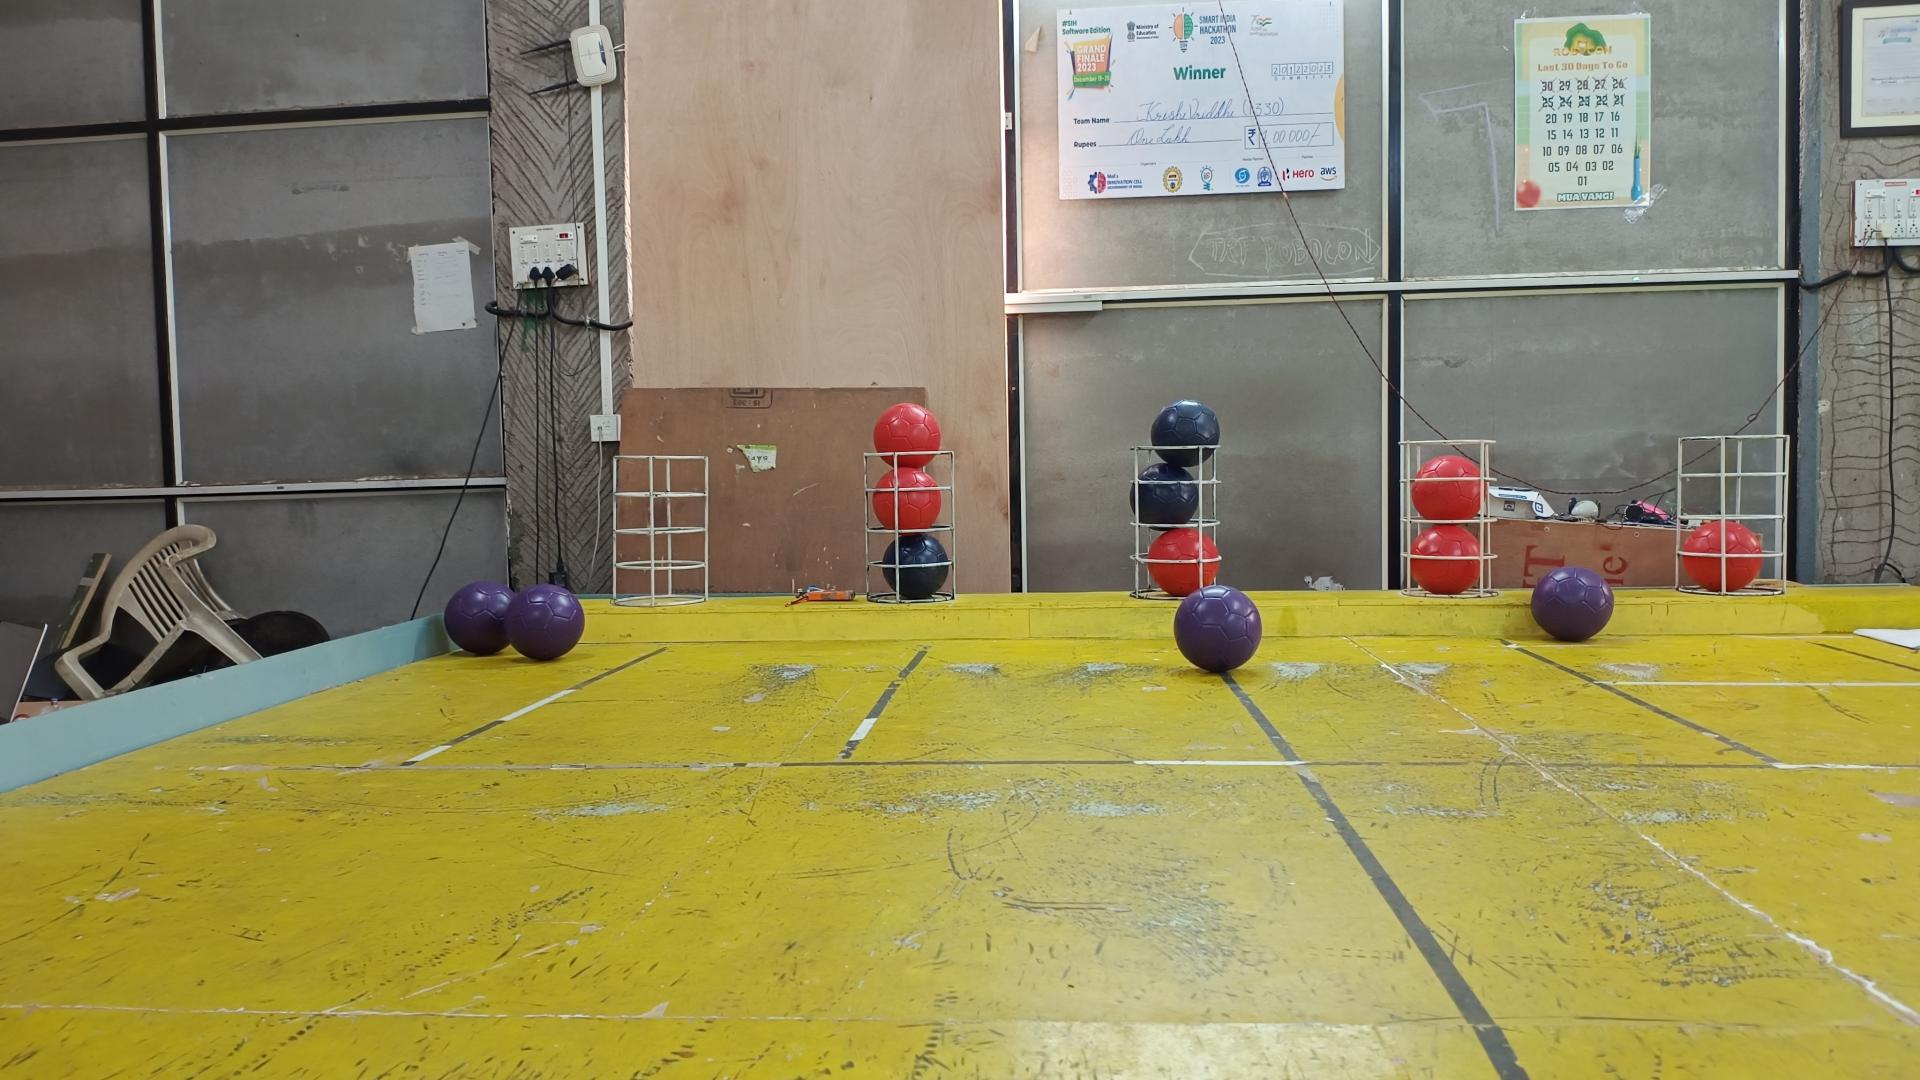dhoka: (881, 533, 948, 600), (1151, 401, 1218, 468), (1129, 462, 1200, 525)
laale: (1680, 521, 1763, 592), (1410, 525, 1481, 596), (1147, 529, 1218, 596), (1410, 454, 1481, 521), (874, 401, 942, 468), (874, 465, 942, 533)
